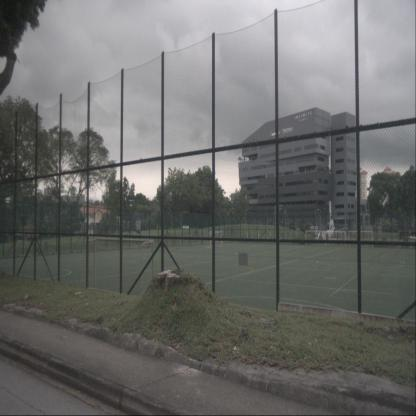vehicle-bus-rigid: (398, 230, 416, 244)
